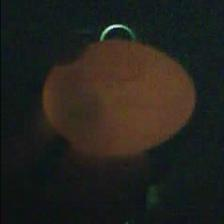fertile: (40, 38, 200, 160)
